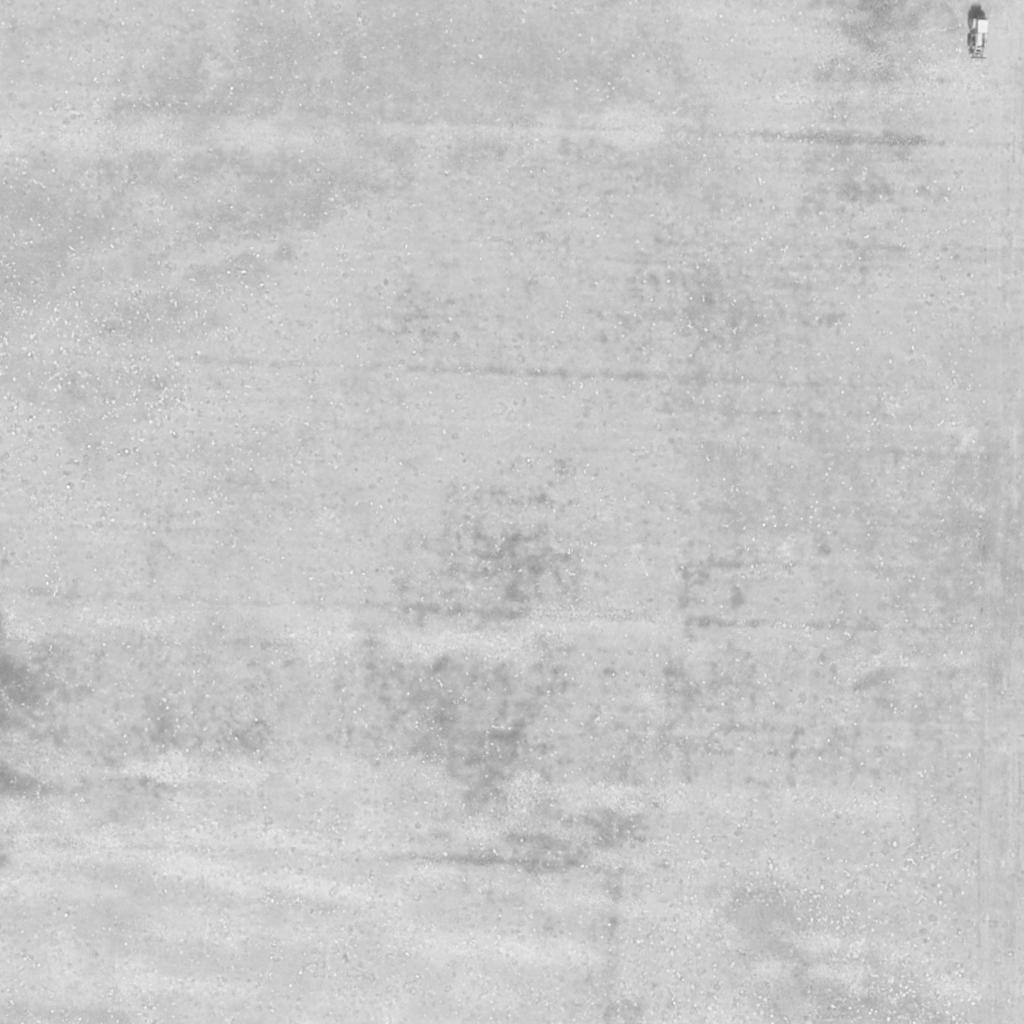vehicle: (966, 17, 992, 61)
